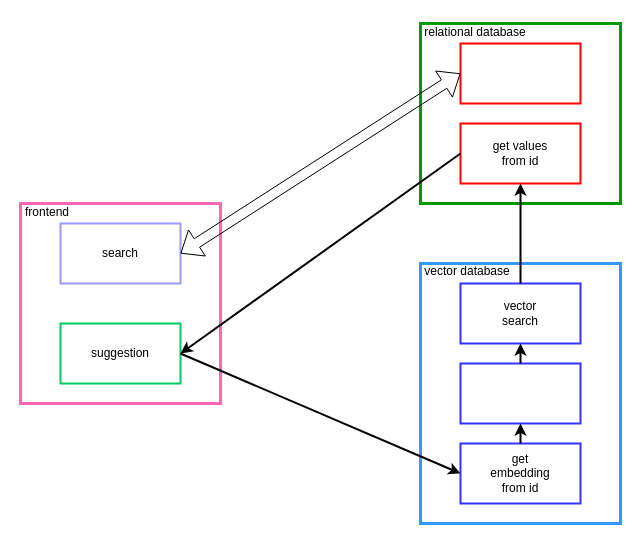
Some shapes in this 639 by 542 pixel diagram are drawn without their labels. Here are the shapes that lost their labels. From the top down, the centre of each, then its label:
At (520,73): "keyword search".
At (520,393): "average embeddings".
